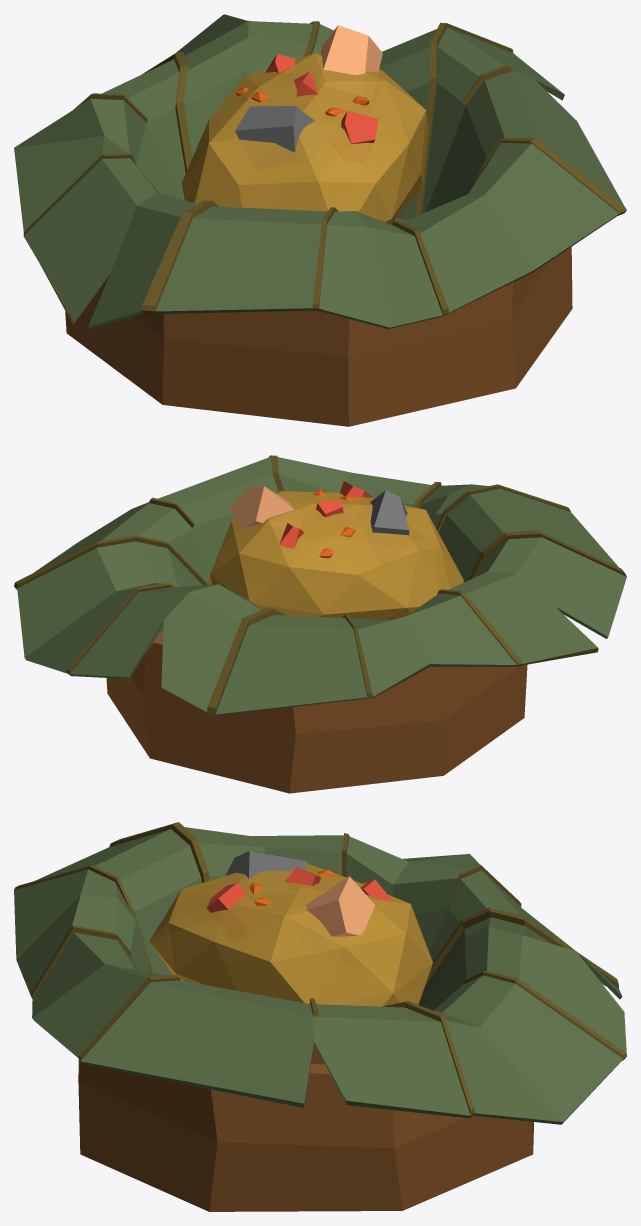
The model's file is Lotus_Leaf_Sticky_Rice_-_Unwrapped.fbx.
3 views of the same model, one above another, from view 1: azimuth 30°, elevation 25°; view 2: azimuth 150°, elevation 25°; view 3: azimuth 270°, elevation 25° (orthographic). The views are drawn at different scales.
Visible parts, largest first — view 1: Cylinder.006; view 2: Cylinder.006; view 3: Cylinder.006.
Part boxes in pixels (left/top/right/bottom): Cylinder.006: left=14, top=14, right=626, bottom=426; Cylinder.006: left=14, top=455, right=626, bottom=793; Cylinder.006: left=14, top=822, right=626, bottom=1211.
Size of the model in its own units: 265 by 119 by 255.
